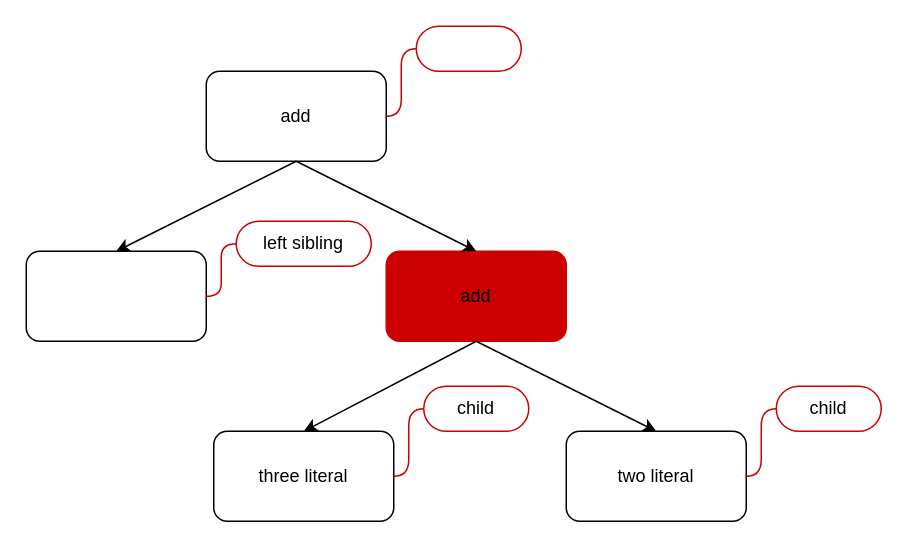
This 908x548 diagram has some shape labels left out. The centre of each missing label's shape, as x and y in pixels:
"five literal" goes at (115,295).
"parent" goes at (468,48).
